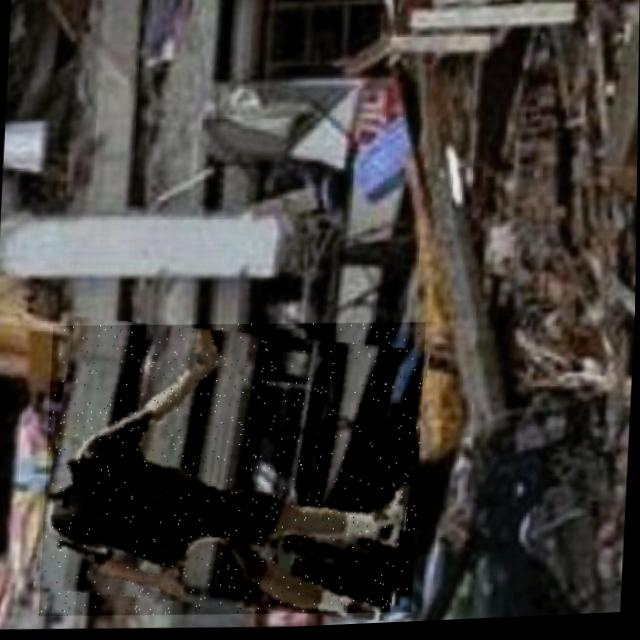Person in Rubble: (40, 312, 427, 629)
